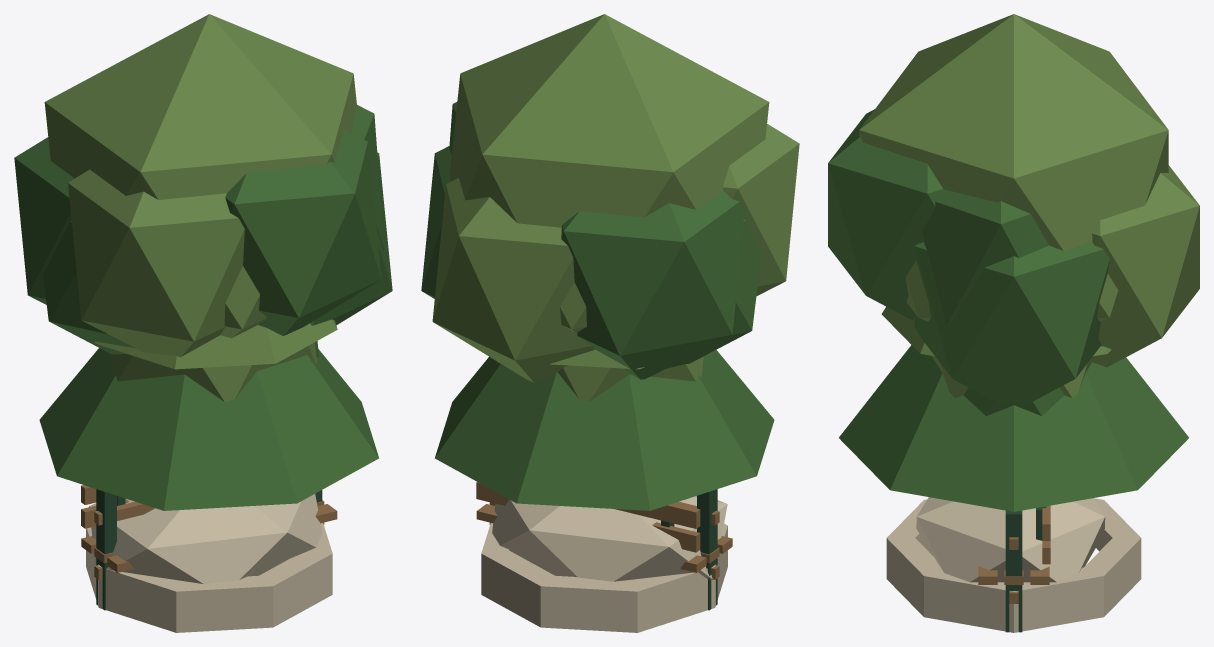
Rendered from environment-refresh.glb.
3 views of the same model, side by side, from view 1: azimuth 30°, elevation 25°; view 2: azimuth 150°, elevation 25°; view 3: azimuth 270°, elevation 25° (orthographic).
Parts seen in each view (by area): view 1: tree-bushy, tree-round, tree-pine, rock-2, fountain, tree-small, fence, bench; view 2: tree-bushy, tree-round, tree-pine, fountain, rock-2, bench, tree-small, fence; view 3: tree-round, tree-bushy, tree-pine, fountain, rock-2, tree-small, fence, bench.
Boxes of the visible parts, bbox=[...] form: tree-bushy: bbox=[14, 129, 392, 357]; tree-round: bbox=[43, 14, 384, 354]; tree-pine: bbox=[39, 319, 378, 510]; rock-2: bbox=[89, 494, 322, 583]; fountain: bbox=[86, 523, 332, 632]; tree-small: bbox=[110, 341, 318, 401]; fence: bbox=[94, 489, 324, 610]; bench: bbox=[81, 485, 337, 572]; tree-bushy: bbox=[421, 124, 799, 382]; tree-round: bbox=[449, 14, 769, 368]; tree-pine: bbox=[435, 349, 774, 510]; fountain: bbox=[481, 523, 727, 632]; rock-2: bbox=[492, 496, 727, 581]; bench: bbox=[476, 482, 732, 572]; tree-small: bbox=[497, 356, 703, 401]; fence: bbox=[489, 489, 719, 610]; tree-round: bbox=[859, 14, 1168, 326]; tree-bushy: bbox=[828, 109, 1199, 402]; tree-pine: bbox=[839, 306, 1188, 511]; fountain: bbox=[886, 498, 1141, 632]; rock-2: bbox=[916, 497, 1105, 582]; tree-small: bbox=[932, 356, 1092, 415]; fence: bbox=[1005, 510, 1022, 632]; bench: bbox=[978, 505, 1050, 584].
Size of the model in its own units: 2.88 by 4.8 by 2.86.
